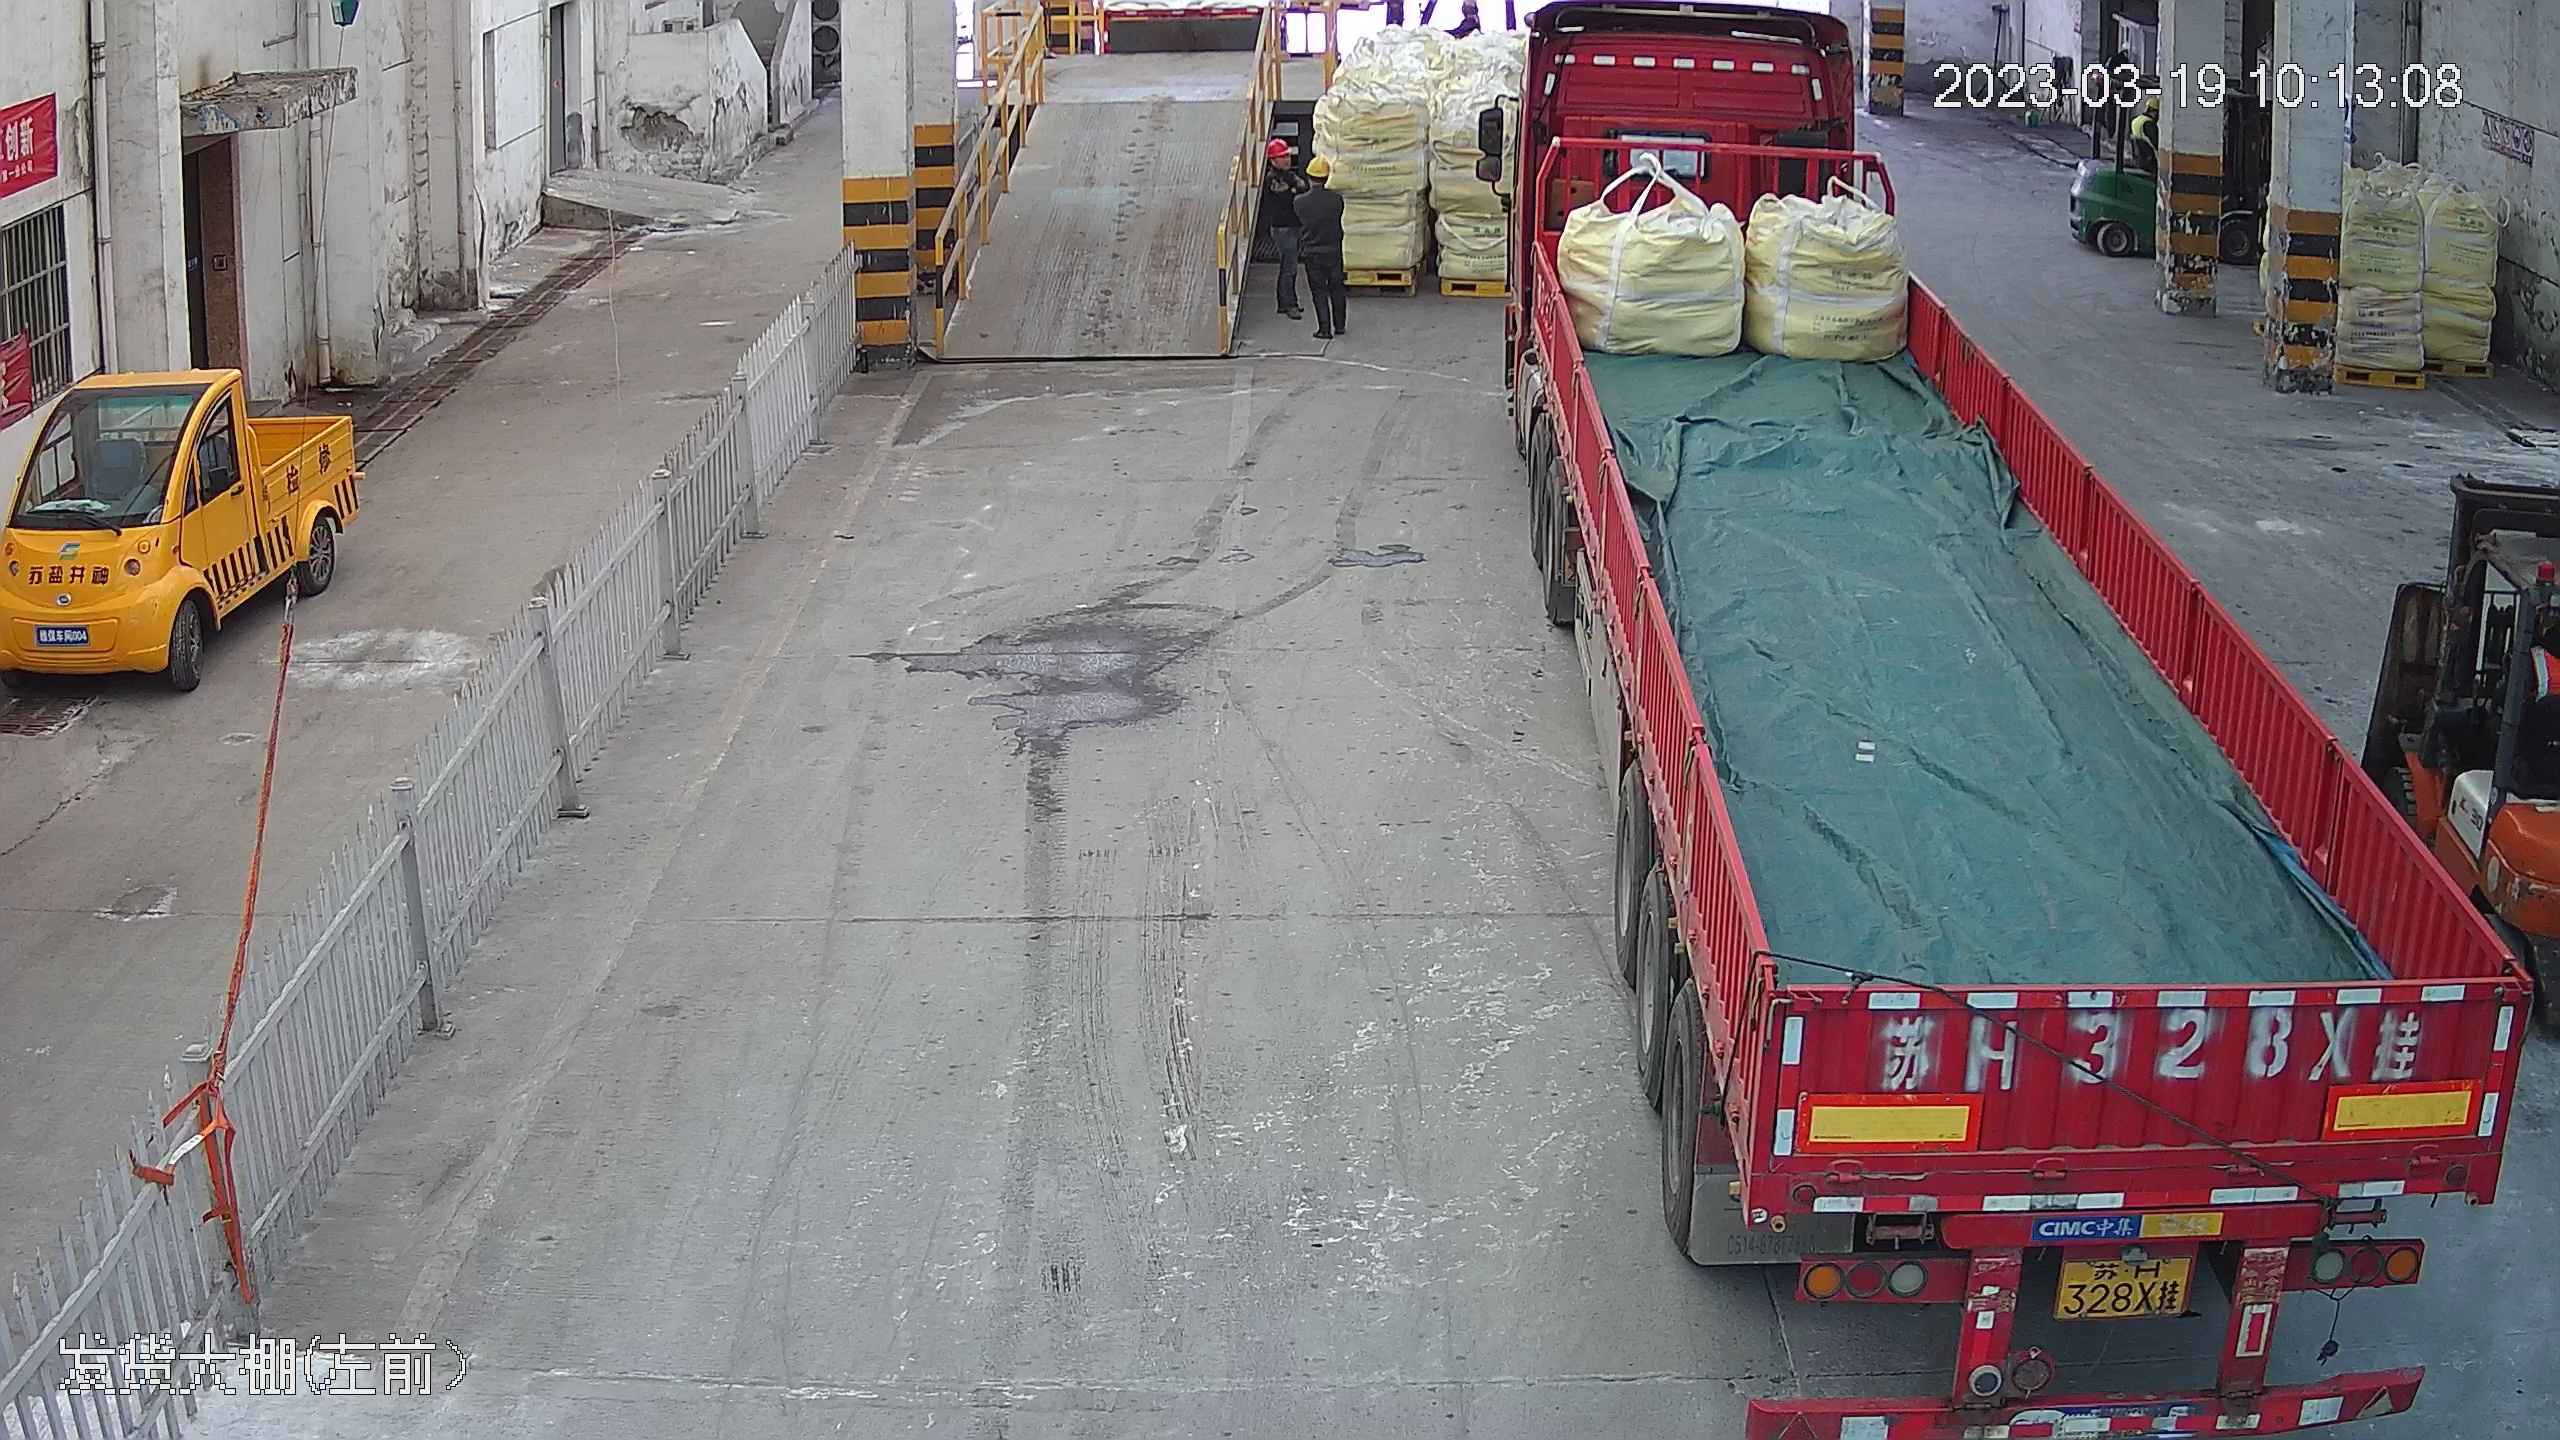head: (1301, 154, 1345, 213), (1265, 138, 1304, 195)
helmet: (1304, 156, 1330, 176), (1267, 139, 1292, 157)
people: (1297, 155, 1355, 342)
truck: (1496, 1, 2549, 1426)
